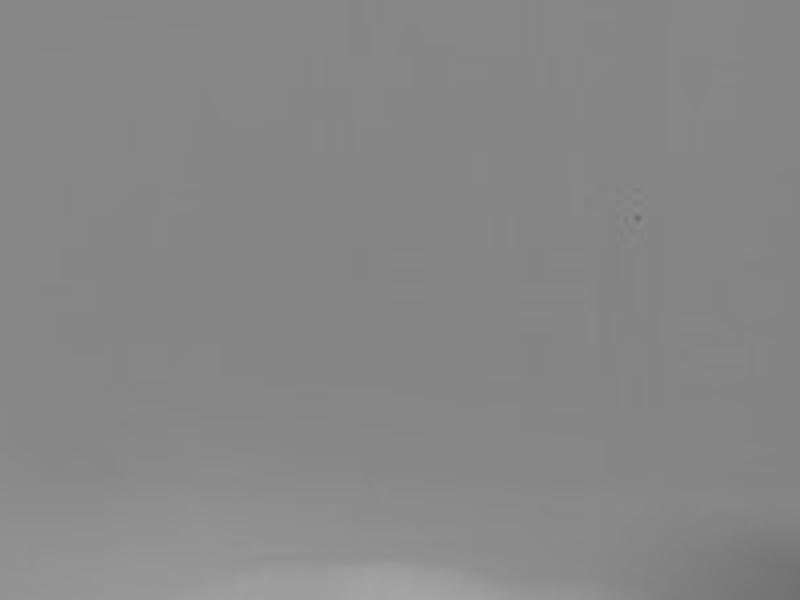defect: (627, 206, 646, 226)
